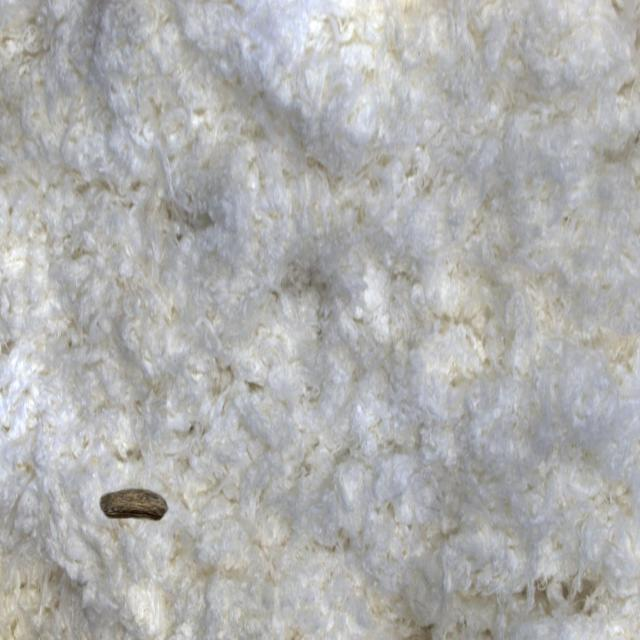dust: (72, 433, 191, 589)
